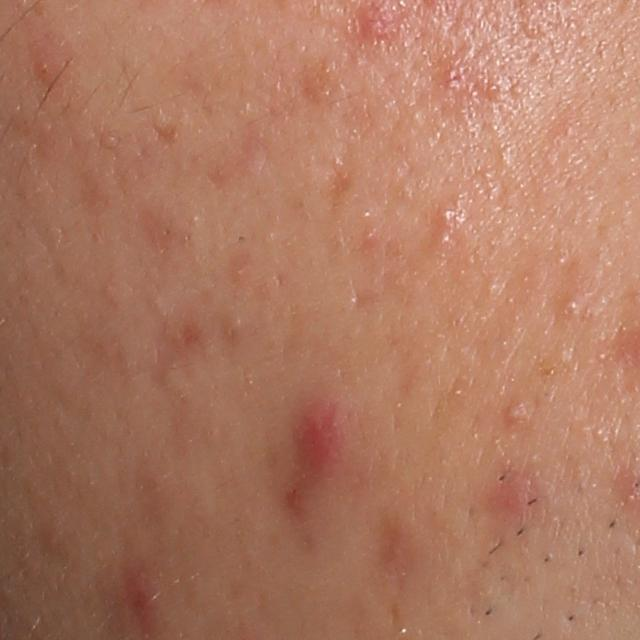atrophic_scar: (153, 121, 180, 149)
papule: (285, 400, 349, 491), (121, 571, 159, 640), (355, 3, 391, 45), (30, 53, 58, 81), (433, 203, 459, 229)
